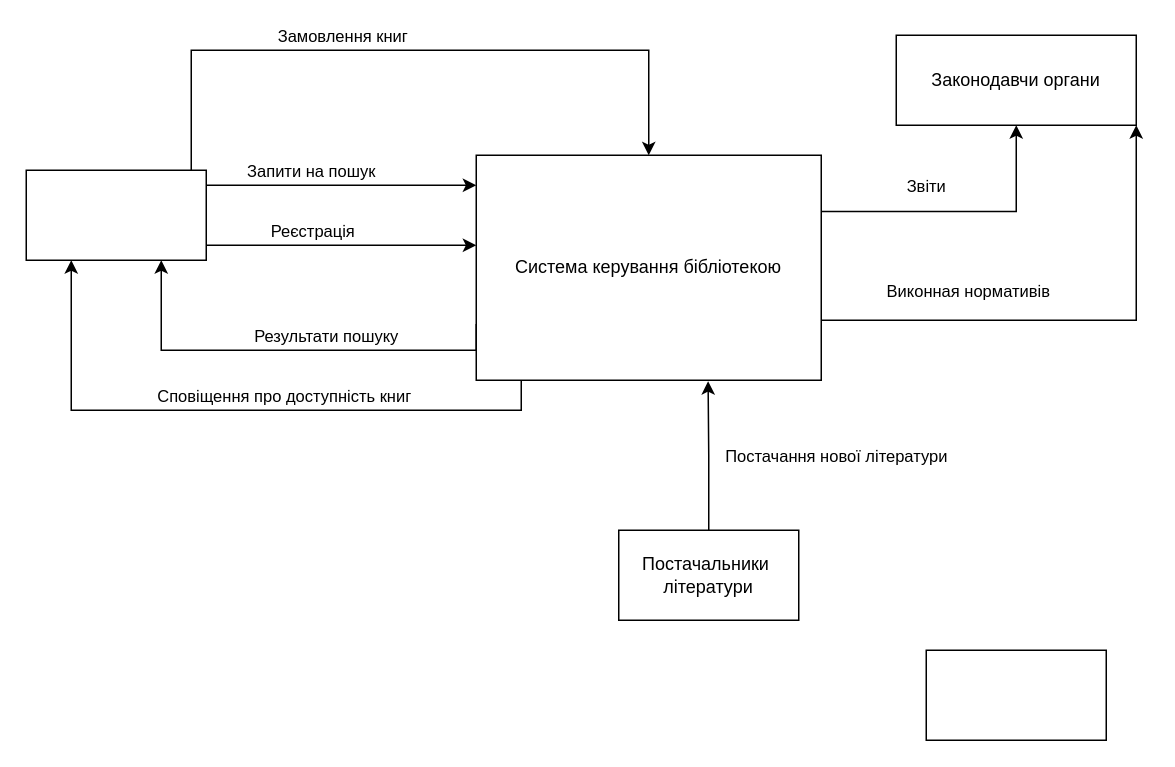
Some shapes in this 1175 by 767 pixel diagram are drawn without their labels. Each missing label, with the centre of its shape:
"Користувачі" goes at (x=115, y=214).
"Інші інформаційні системи" goes at (x=1015, y=694).
